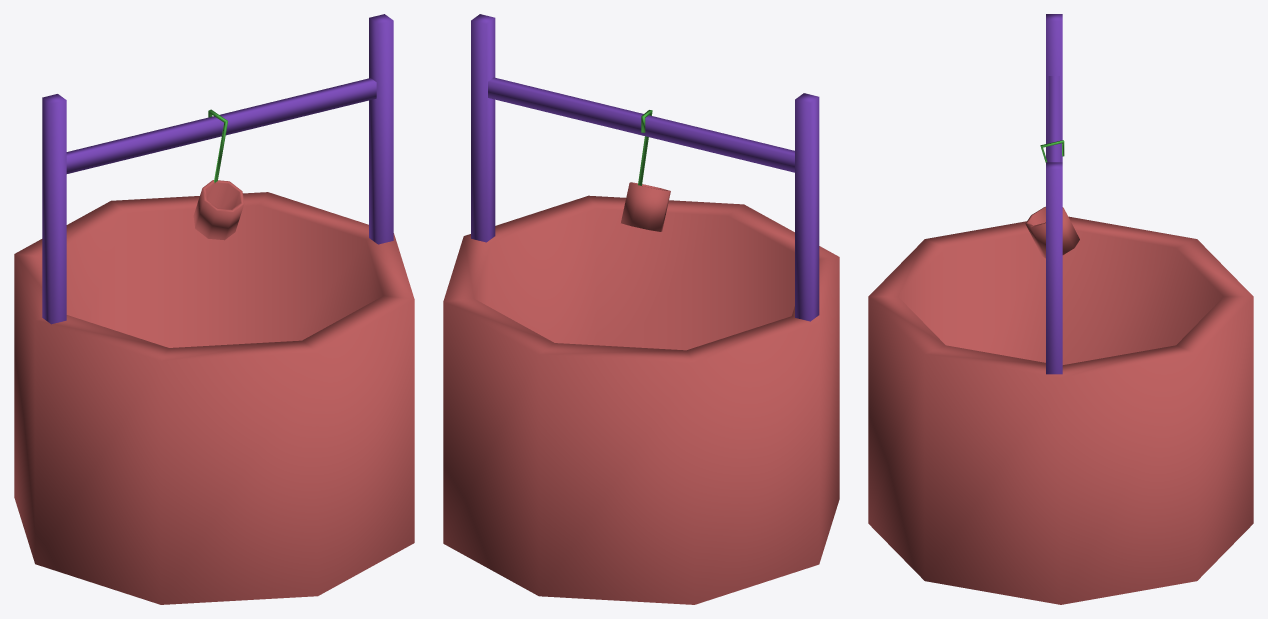
File: poco02.fbx
3 views of the same model, side by side, from view 1: azimuth 30°, elevation 25°; view 2: azimuth 150°, elevation 25°; view 3: azimuth 270°, elevation 25° (orthographic). The views are drawn at different scales.
Visible parts, largest first — view 1: poco; view 2: poco; view 3: poco.
Boxes of the visible parts, <box> form: poco: <box>14,14,414,604</box>; poco: <box>443,14,839,604</box>; poco: <box>868,14,1253,604</box>.
Bounding box in the file's own units: 1.33 × 1.64 × 1.33.
